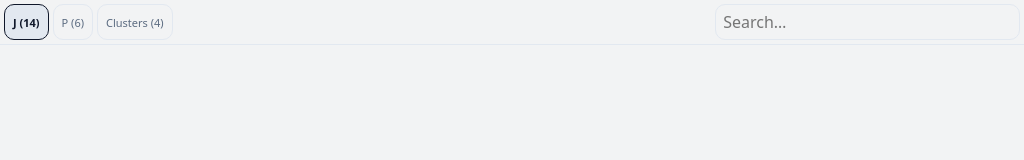
Scenario: pill tooltips › spells out the section a letter stands for
This screenshot has width=1024, height=160.
Hover over the button "J (14)" at (26, 22), box [4, 4, 49, 40]
Wait 500 ms
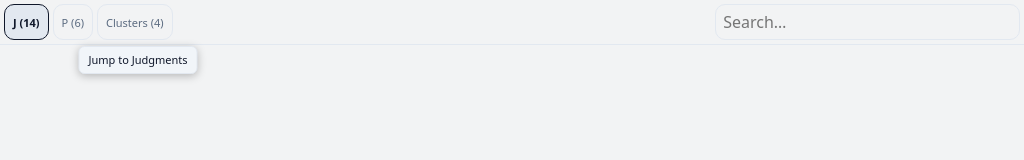
Expected: the text "Jump to Judgments" is shown, [78, 46, 198, 74]
